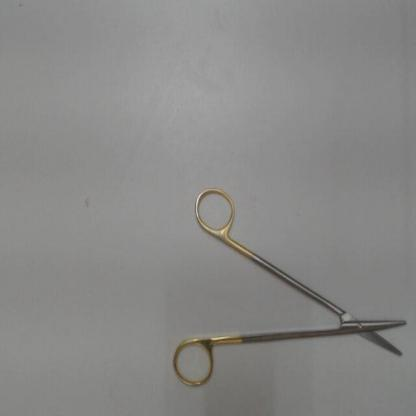7 Metzenbaum Scissors: (168, 179, 410, 396)
